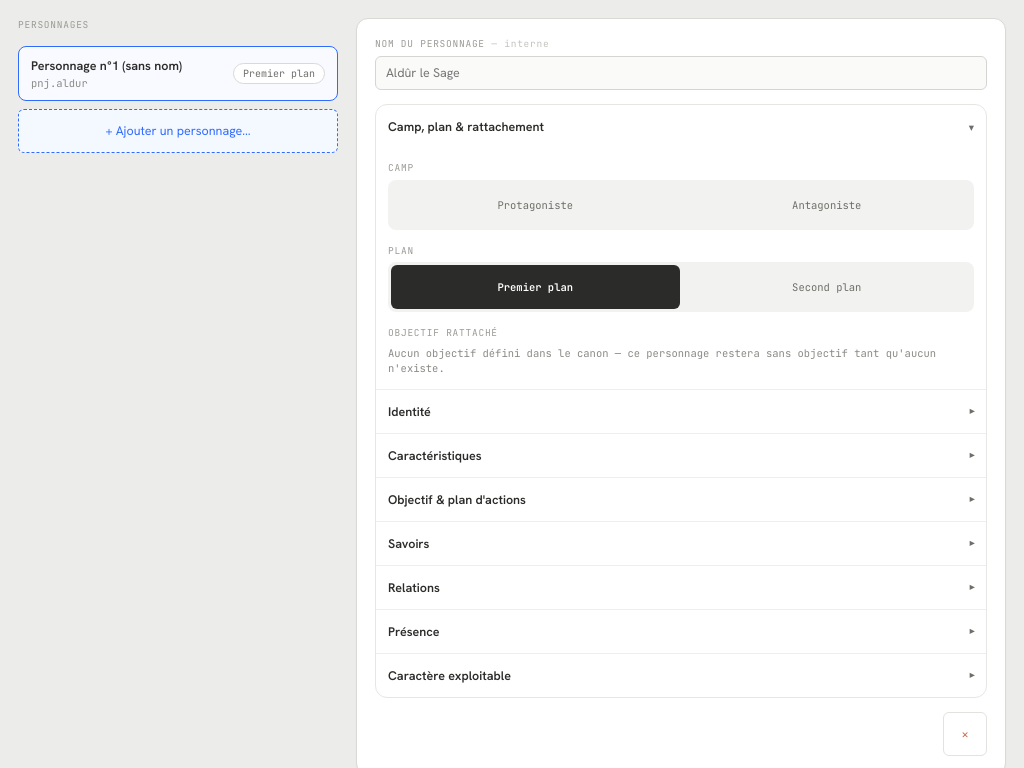
Test: PanneauPersonnages › camp/plan: commit immediat (un seul appel par clic), badge conditionnel sur camp
Expected: the text "Premier plan" is shown, [233, 63, 325, 84]
Click the radio button labelled "Protagoniste".
click(535, 205)  # box [391, 183, 680, 227]
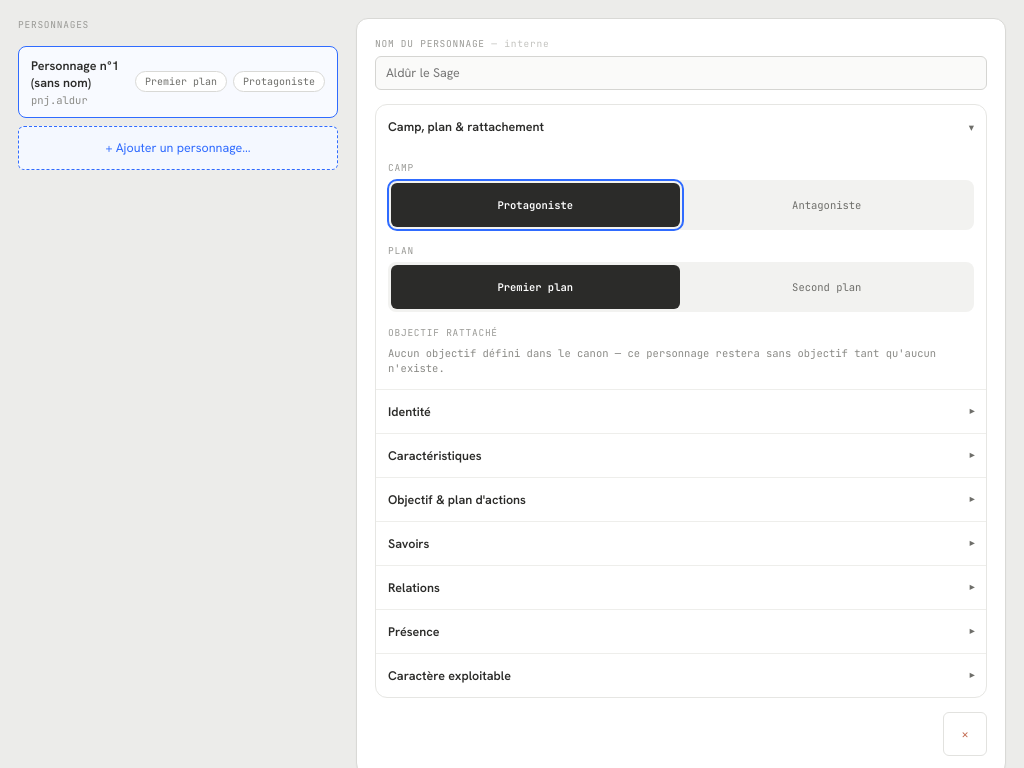
Now the text "Protagoniste" is shown, box [233, 71, 325, 92]
Click the radio button labelled "Second plan".
click(827, 287)  # box [682, 265, 971, 309]
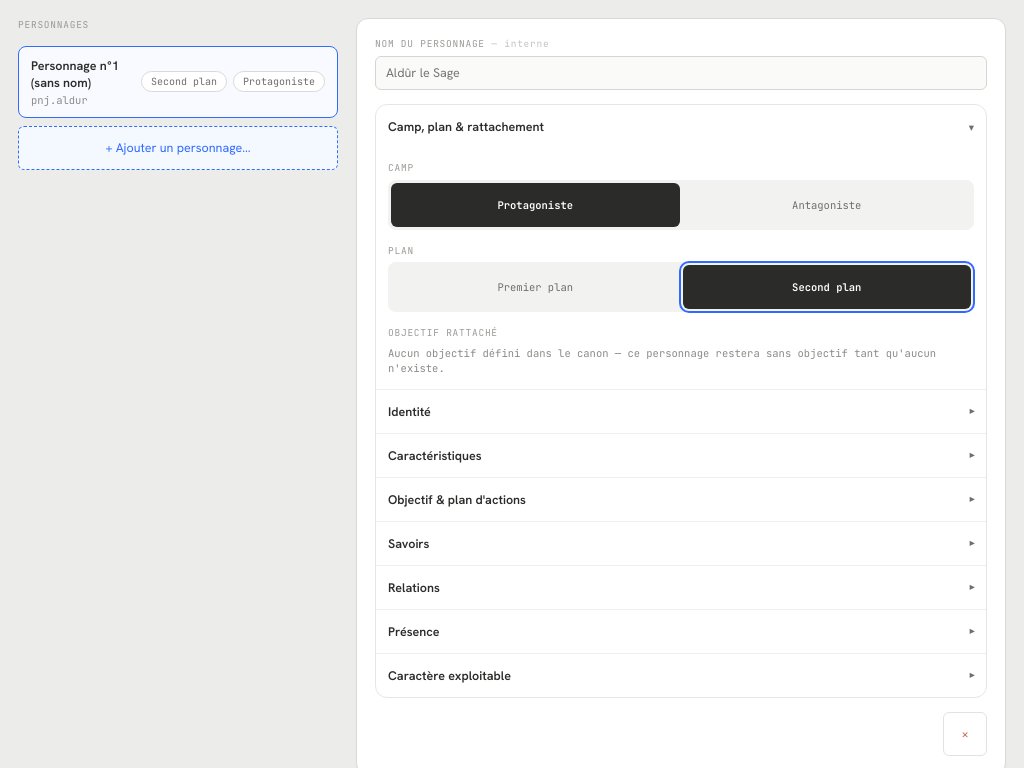
Now the text "Protagoniste" is shown, box [233, 71, 325, 92]
Now the text "Second plan" is shown, box [141, 71, 227, 92]
